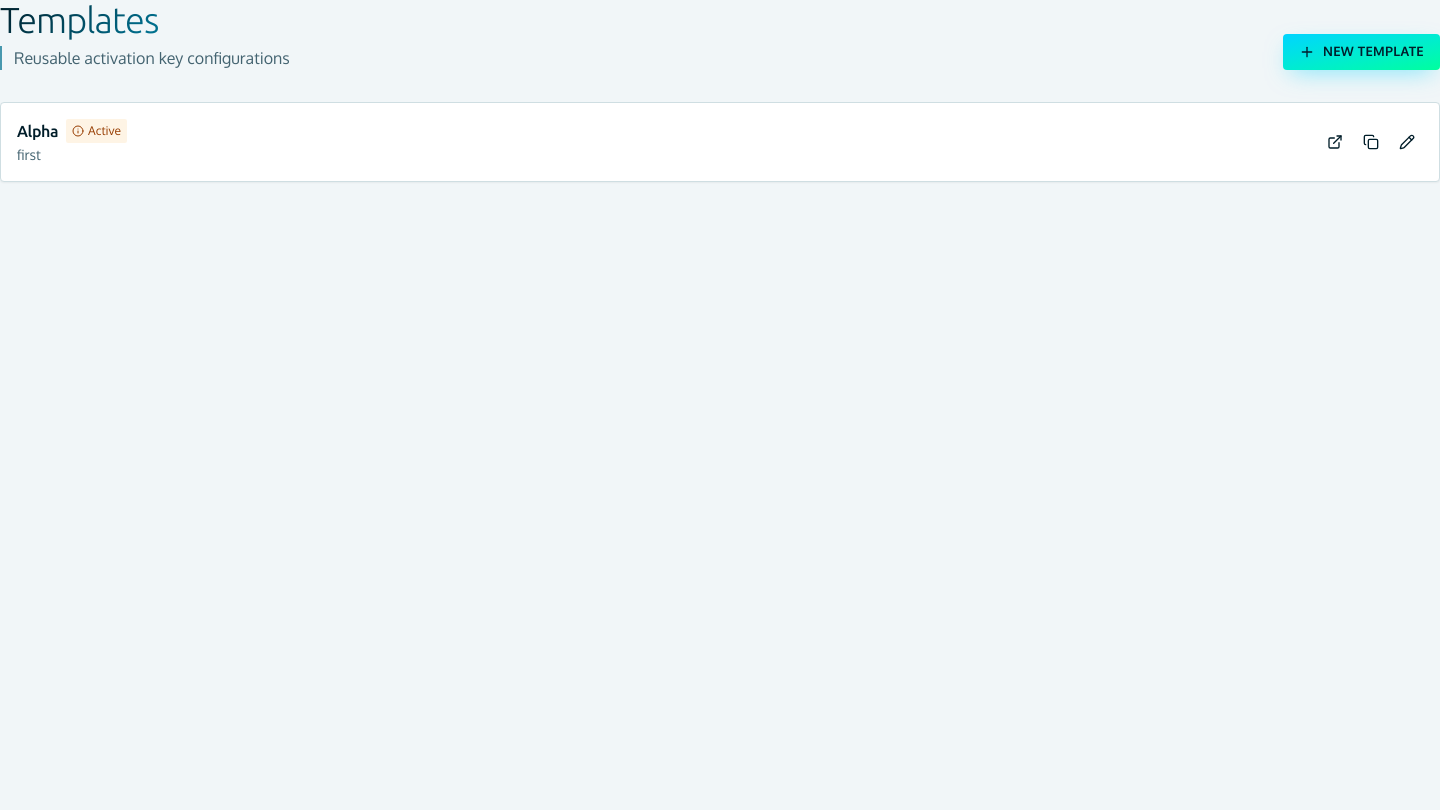
Test case: Templates page structure › empty state, reached by deleting the last template
The width and height of the screenshot is (1440, 810).
Click the button named "Edit template Alpha": [1407, 142] box [1391, 126, 1423, 158]
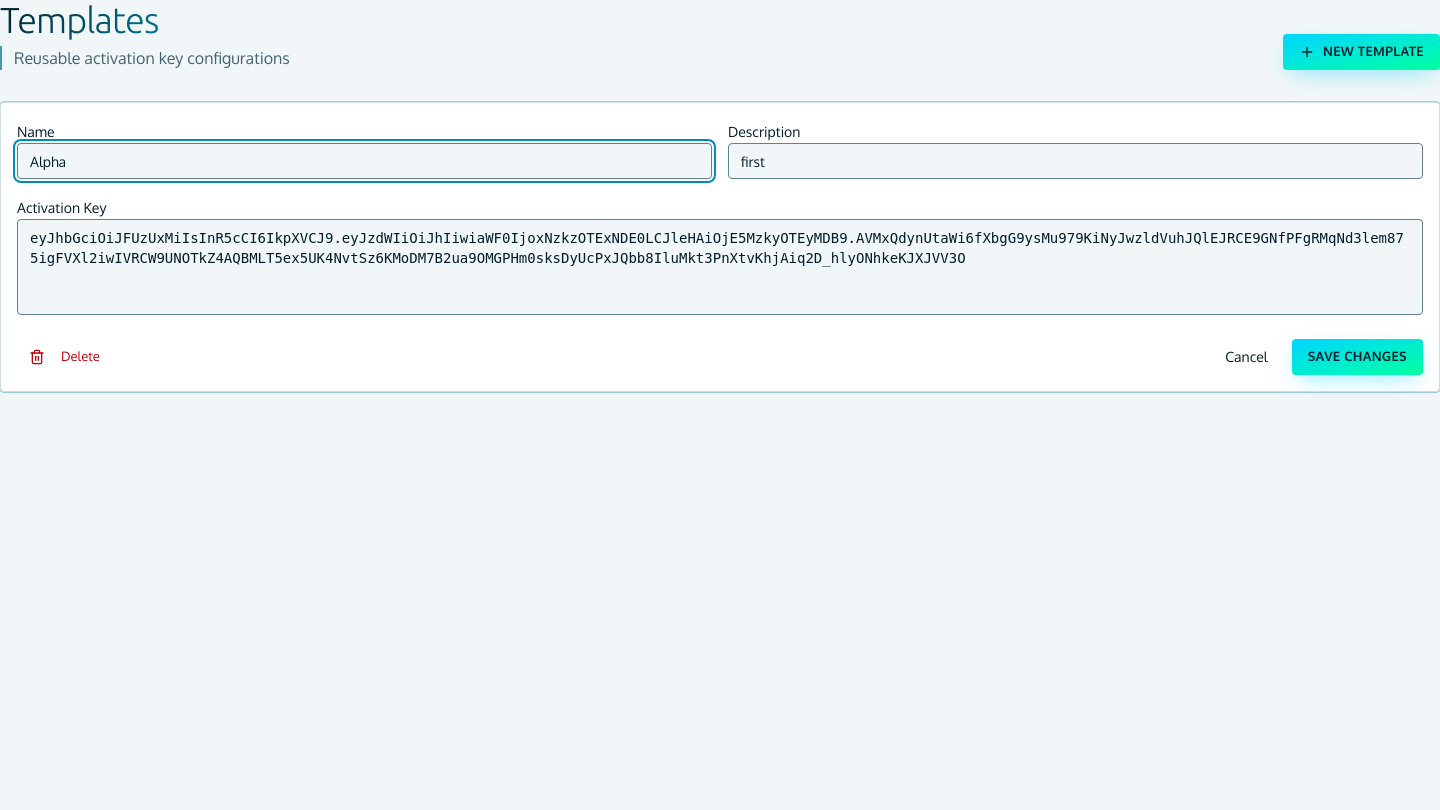
Click the button with aria-label "Delete template Alpha": [64, 357] box [17, 341, 112, 373]
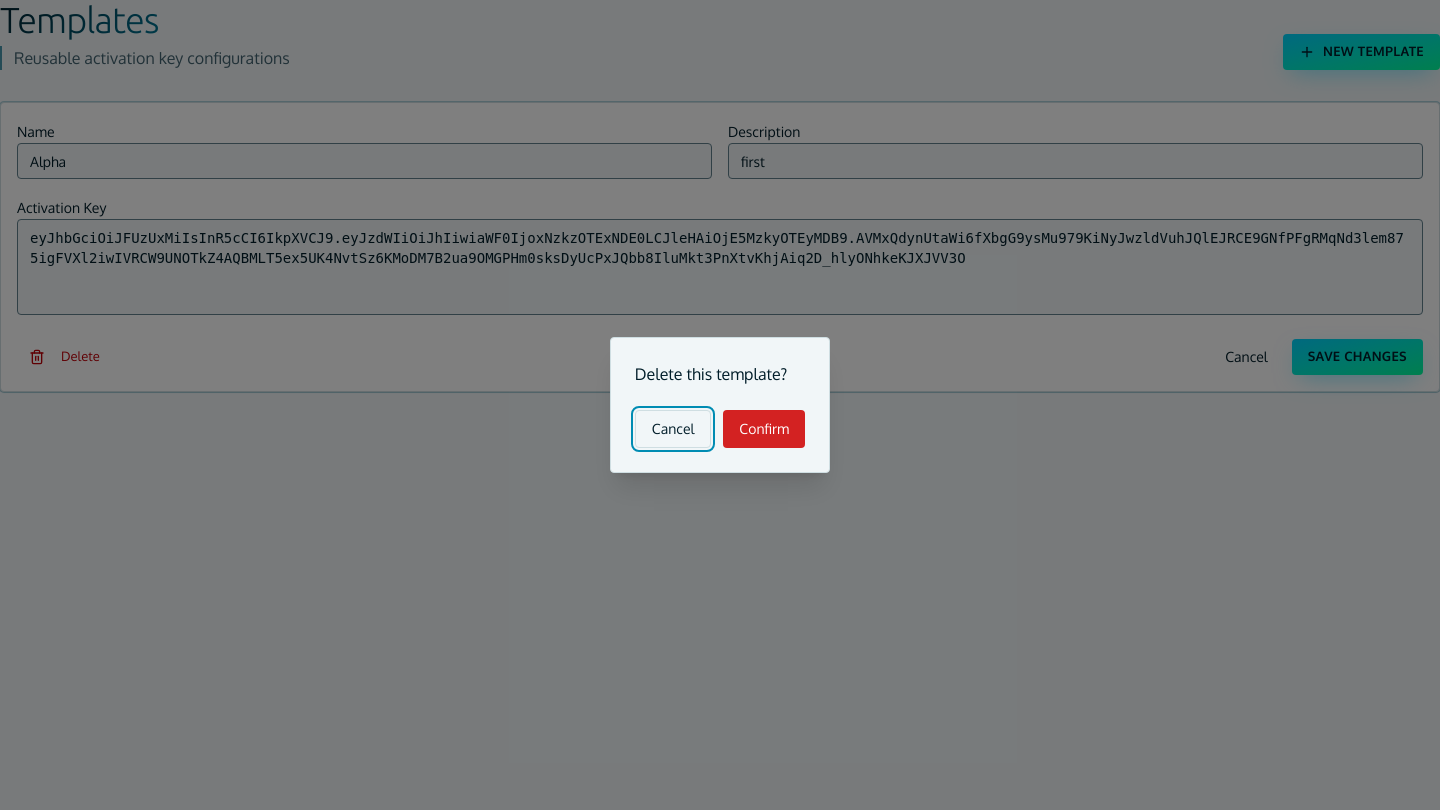
Click the button "Confirm": [764, 429] box [723, 410, 805, 448]
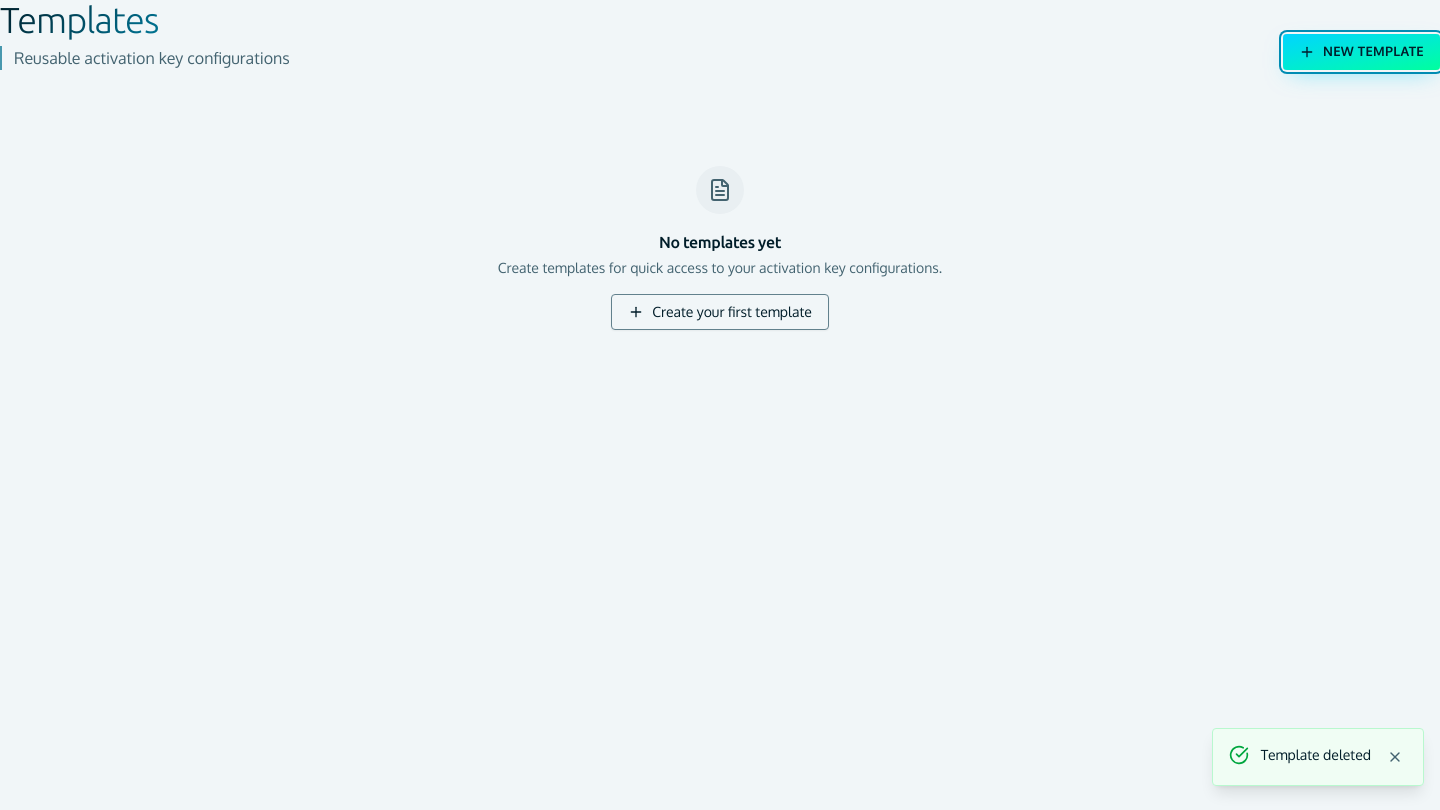
expect the heading "No templates yet" is shown: met, box [659, 233, 781, 251]
